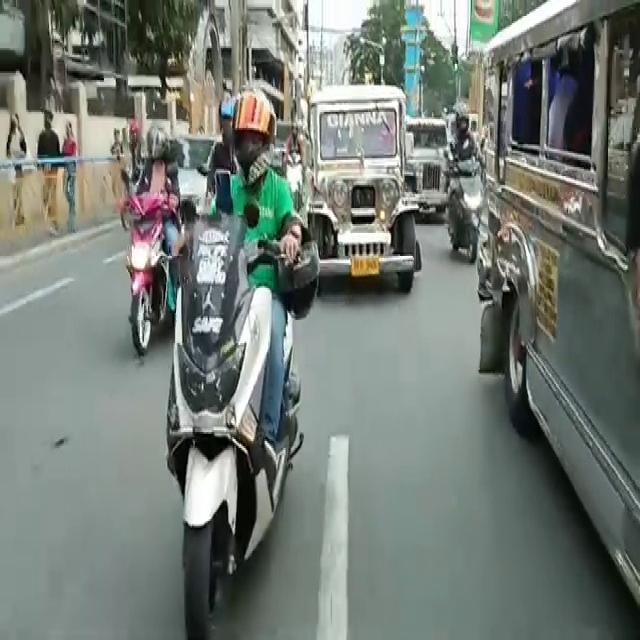jeepney: (485, 54, 640, 575), (304, 90, 432, 305), (408, 117, 450, 218)
motorcycle: (190, 149, 298, 599), (128, 146, 182, 354), (452, 114, 498, 298)
